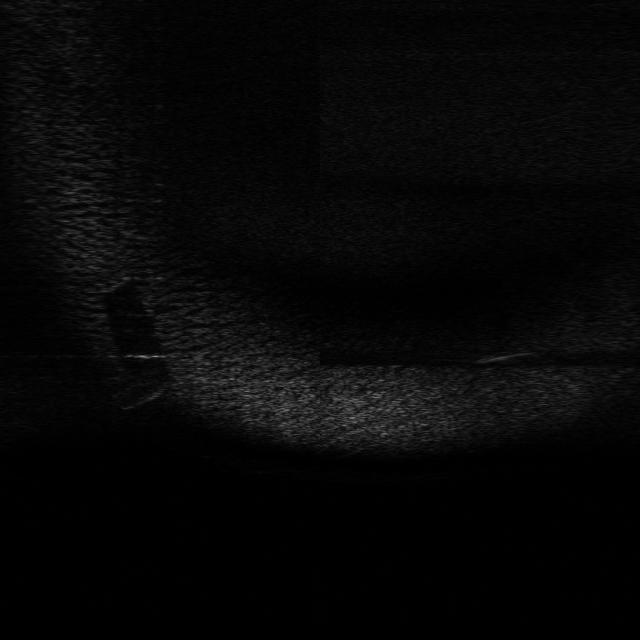cube: (100, 367, 166, 411)
